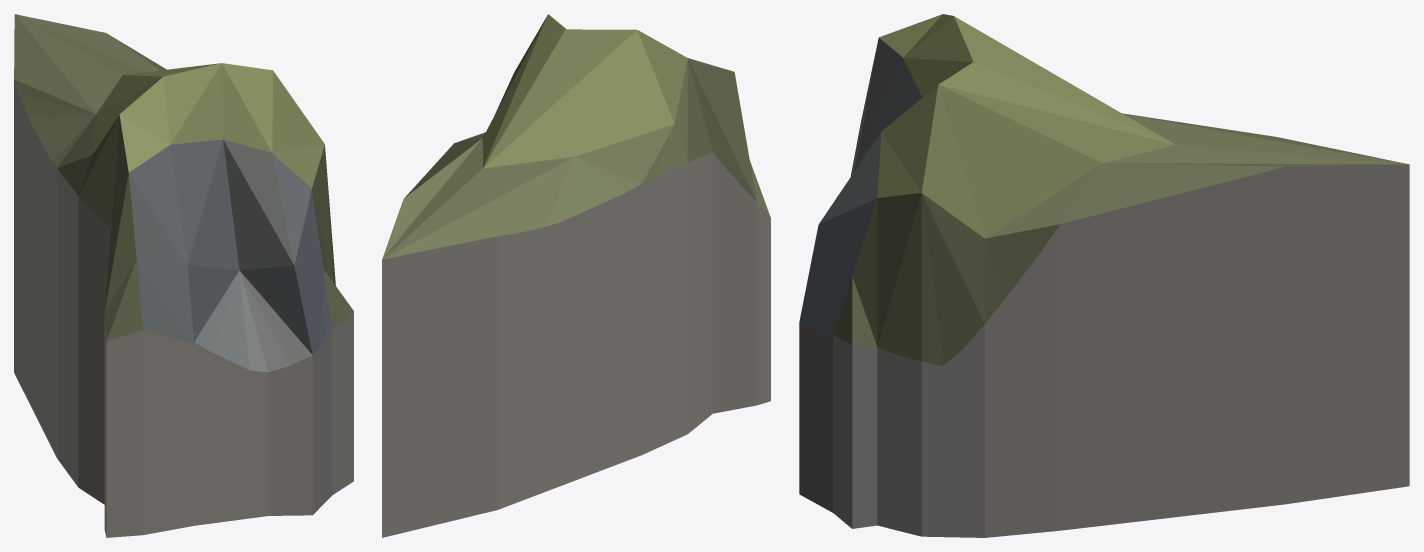
Rendered from cliff_central_wall.glb.
The picture shows the model from 3 angles, left to right: view 1: azimuth 30°, elevation 25°; view 2: azimuth 150°, elevation 25°; view 3: azimuth 270°, elevation 25°; orthographic projection. The views are drawn at different scales.
Visible parts, largest first — view 1: cliff_central_wall; view 2: cliff_central_wall; view 3: cliff_central_wall.
Boxes of the visible parts, x1,y1,x2,y2 form: cliff_central_wall: [14, 14, 353, 537]; cliff_central_wall: [382, 14, 770, 537]; cliff_central_wall: [799, 14, 1409, 537].
Size of the model in its own units: 51.4 by 76.39 by 96.56.
